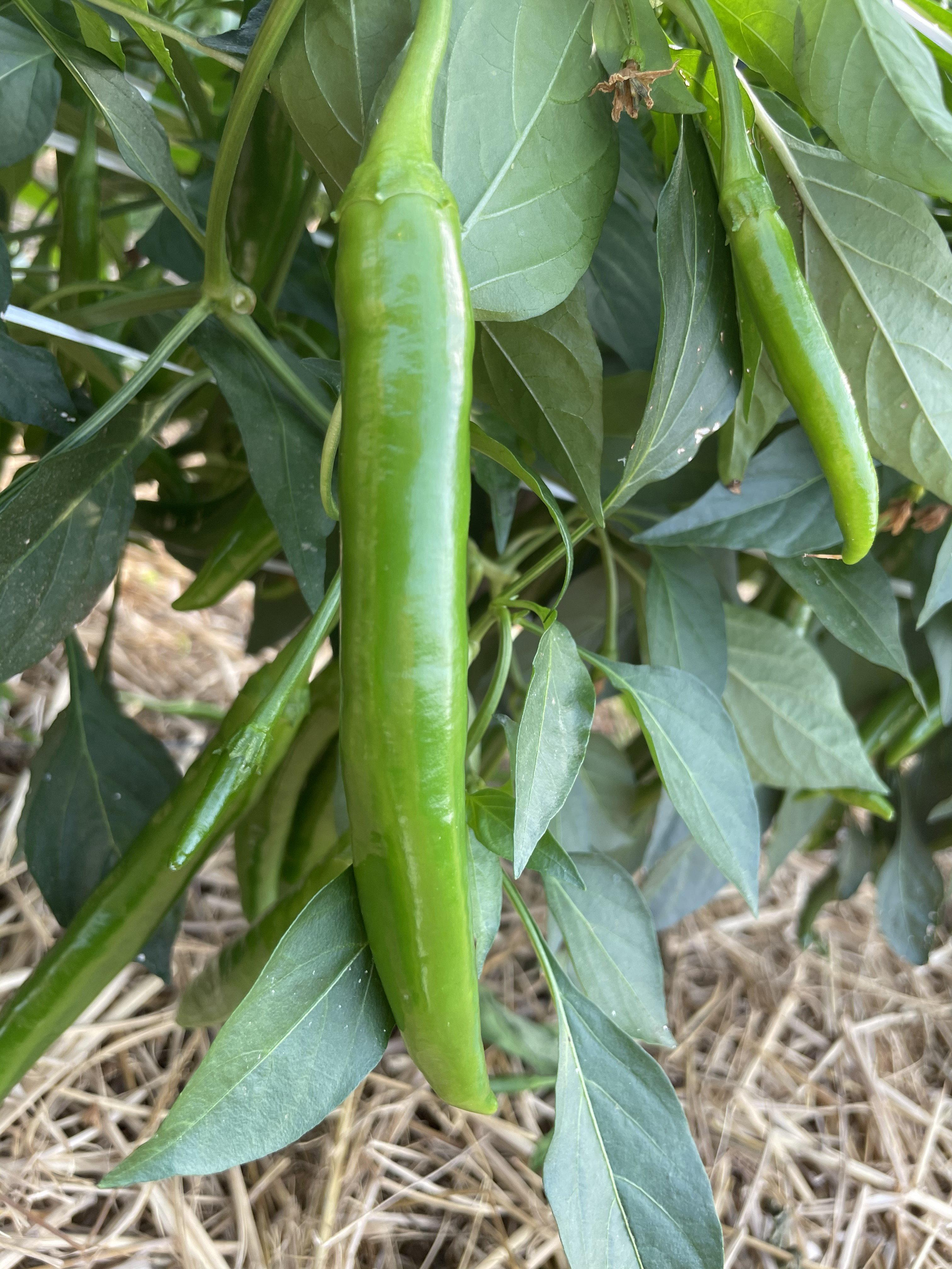Buah Cabai Sehat: (325, 152, 500, 1117)
